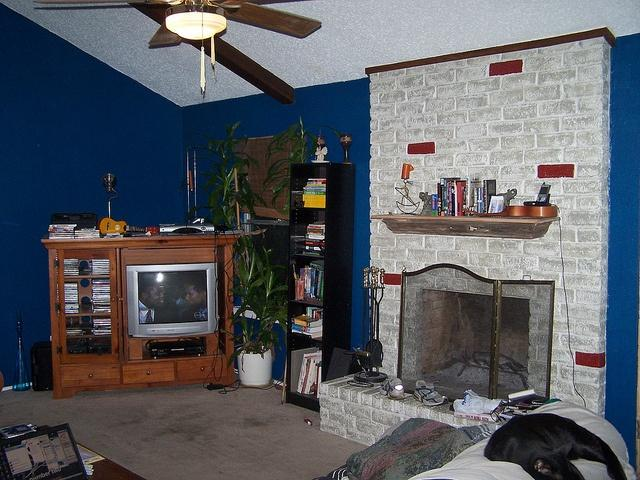Rak: (283, 161, 329, 412)
